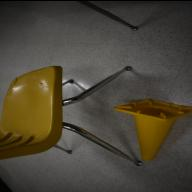cube: (114, 98, 192, 160)
